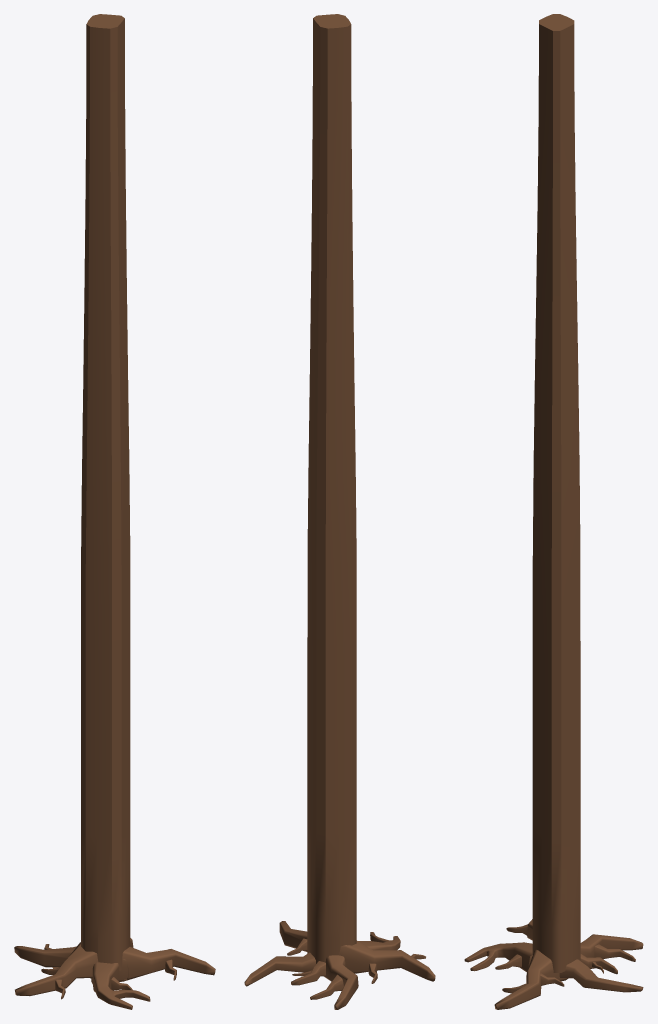
Rendered from ColoredTree.fbx.
3 renders of one model, left to right at view 1: azimuth 30°, elevation 25°; view 2: azimuth 150°, elevation 25°; view 3: azimuth 270°, elevation 25°, orthographic.
Visible parts, largest first — view 1: pasted__pasted__pCube1 (×2), pasted__pCube1, pasted__pCube3, pasted__pasted__pasted__pCube1; view 2: pasted__pasted__pCube1 (×2), pasted__pasted__pasted__pCube1 (×2), pasted__pCube1, pasted__pCube3; view 3: pasted__pasted__pCube1 (×2), pasted__pasted__pasted__pCube1 (×2), pasted__pCube3.
Boxes of the visible parts, x1,y1,x2,y2 form: pasted__pasted__pCube1 (×2): (81, 14, 215, 981); pasted__pCube1: (15, 942, 98, 996); pasted__pCube3: (91, 962, 150, 1009); pasted__pasted__pasted__pCube1: (14, 946, 91, 978); pasted__pasted__pCube1 (×2): (279, 14, 356, 963); pasted__pasted__pasted__pCube1 (×2): (244, 952, 358, 1009); pasted__pCube1: (339, 940, 435, 981); pasted__pCube3: (358, 932, 400, 950); pasted__pasted__pCube1 (×2): (494, 14, 580, 1009); pasted__pasted__pasted__pCube1 (×2): (528, 934, 643, 992); pasted__pCube3: (464, 942, 532, 972).
Size of the model in its own units: 32.02 by 166 by 28.13.
